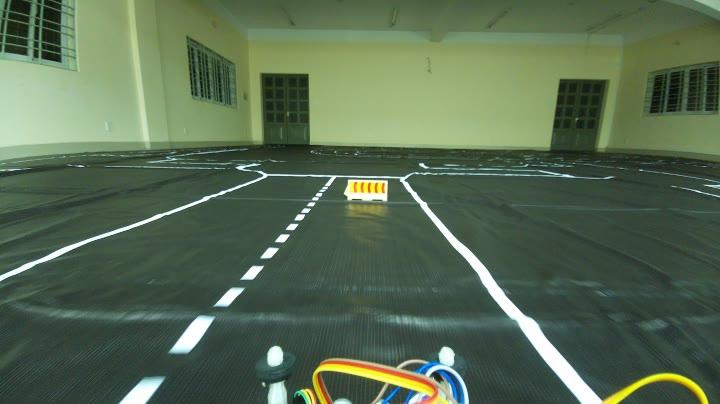roadblock: (339, 173, 395, 210)
